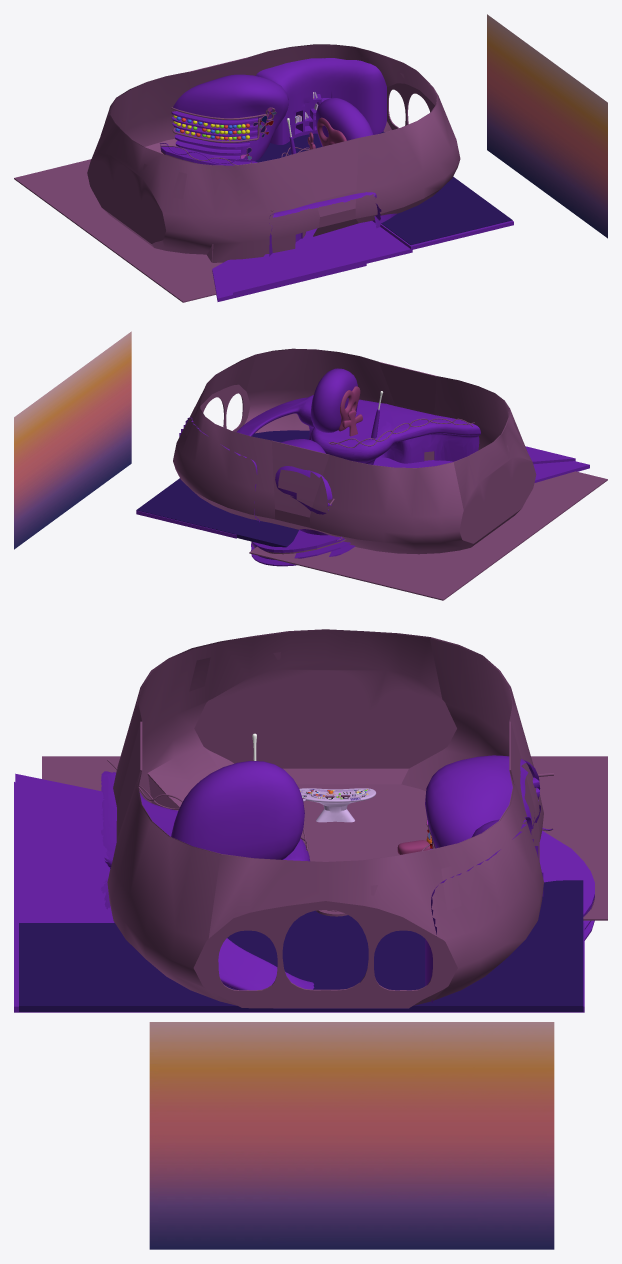
The model's file is inside3-optimized.glb.
The picture shows the model from 3 angles, top to bottom: view 1: azimuth 30°, elevation 25°; view 2: azimuth 150°, elevation 25°; view 3: azimuth 270°, elevation 25°; orthographic projection. The views are drawn at different scales.
Visible parts, largest first — view 1: BézierCurve.003, Cube.004, flat,750x,075,f-pad,750x1000,f8f8f8, left structure, Cube.008; view 2: BézierCurve.003, flat,750x,075,f-pad,750x1000,f8f8f8, Cube.004, left structure, Cube.008; view 3: BézierCurve.003, flat,750x,075,f-pad,750x1000,f8f8f8, Cube.004, left structure, Part Studio 1 - book.
Boxes of the visible parts, <box> form: BézierCurve.003: <box>14,44,460,302</box>; Cube.004: <box>160,58,513,301</box>; flat,750x,075,f-pad,750x1000,f8f8f8: <box>487,14,607,238</box>; left structure: <box>241,92,512,244</box>; Cube.008: <box>307,117,346,149</box>; BézierCurve.003: <box>173,348,607,600</box>; flat,750x,075,f-pad,750x1000,f8f8f8: <box>14,331,131,549</box>; Cube.004: <box>136,368,589,566</box>; left structure: <box>136,430,309,547</box>; Cube.008: <box>338,386,362,436</box>; BézierCurve.003: <box>42,629,607,1008</box>; flat,750x,075,f-pad,750x1000,f8f8f8: <box>149,1022,554,1249</box>; Cube.004: <box>14,755,594,1012</box>; left structure: <box>19,790,583,1011</box>; Part Studio 1 - book: <box>299,788,376,822</box>.
Bounding box in the file's own units: 89.51 × 32.58 × 60.21.
Materials: 22 (1 with a texture image).
